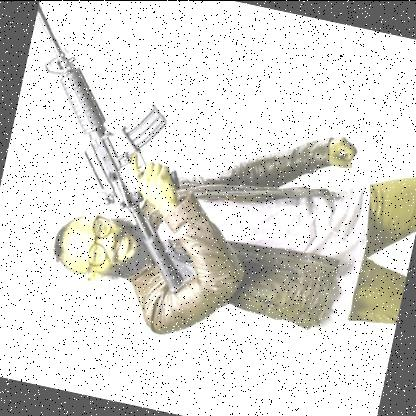rifle: (0, 0, 260, 298)
